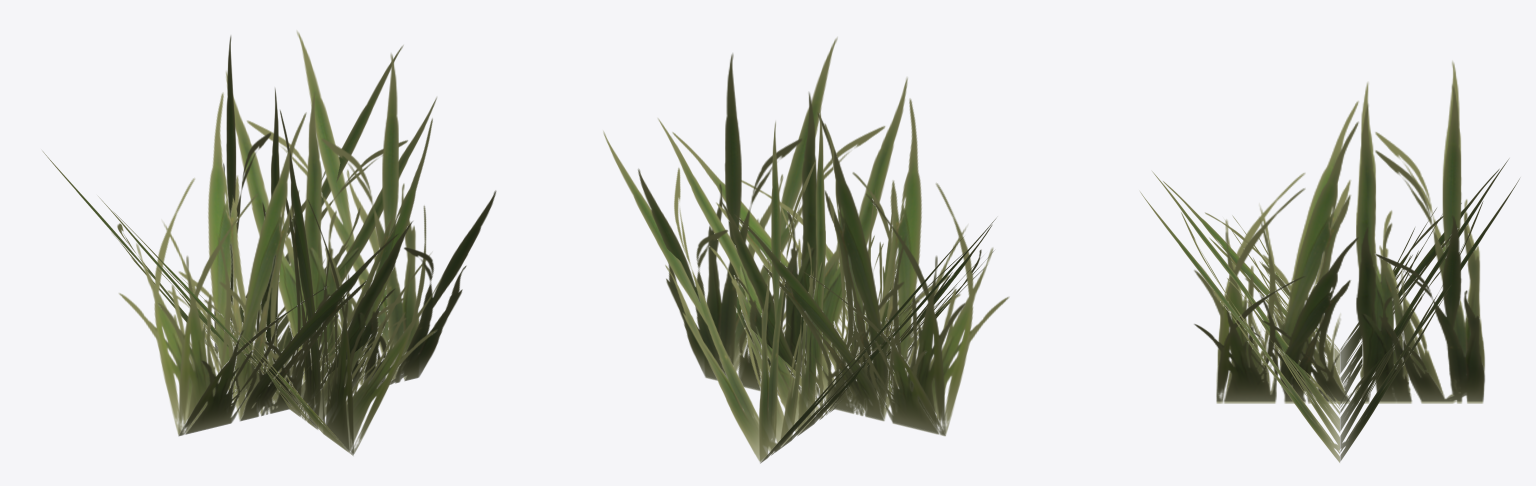
The model's file is grass.gltf.
The picture shows the model from 3 angles, left to right: view 1: azimuth 30°, elevation 25°; view 2: azimuth 150°, elevation 25°; view 3: azimuth 270°, elevation 25°; orthographic projection. The views are drawn at different scales.
Parts seen in each view (by area): view 1: p40_6_Geometry_0; view 2: p40_6_Geometry_0; view 3: p40_6_Geometry_0.
Boxes of the visible parts, box(x1,y1,x2,y2) form: p40_6_Geometry_0: box(42, 31, 496, 455); p40_6_Geometry_0: box(603, 37, 1009, 463); p40_6_Geometry_0: box(1140, 61, 1519, 462).
Size of the model in its own units: 1.19 by 1.05 by 1.13.
1 material, 1 textured.
